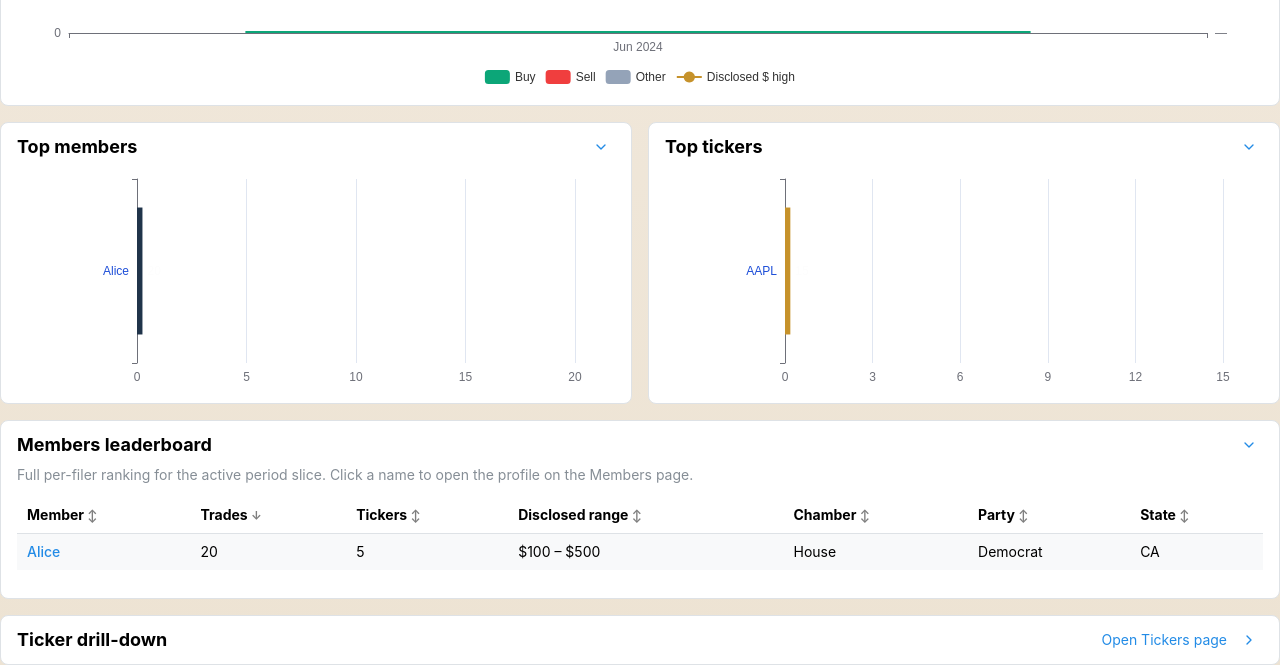
Test: Home route › shows the no-Polygon fallback when cache is empty
The image size is (1280, 665).
(page scrolled)
Expected: the element with test id "home-drilldown" is shown, [0,615,1279,664]
Click the heading "Ticker drill-down". click: [92, 640]
box: [17,627,167,653]
(page scrolled)
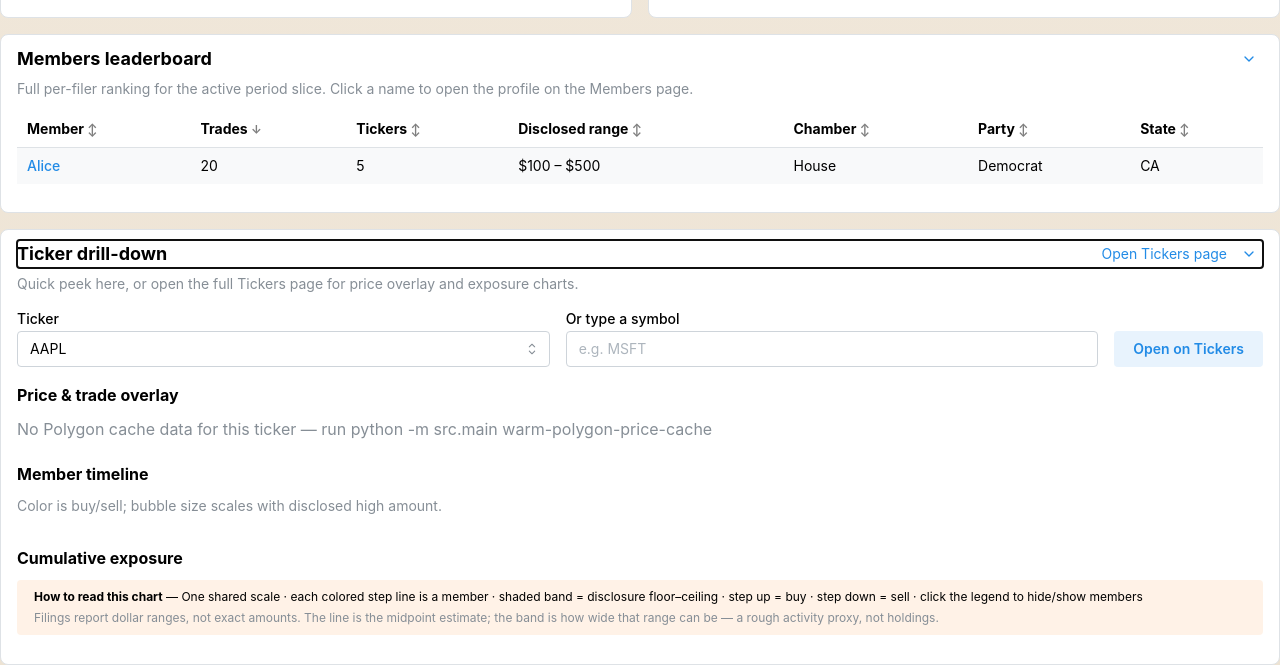
Result: the text with test id "home-no-polygon" is shown at [17,419,712,439]
